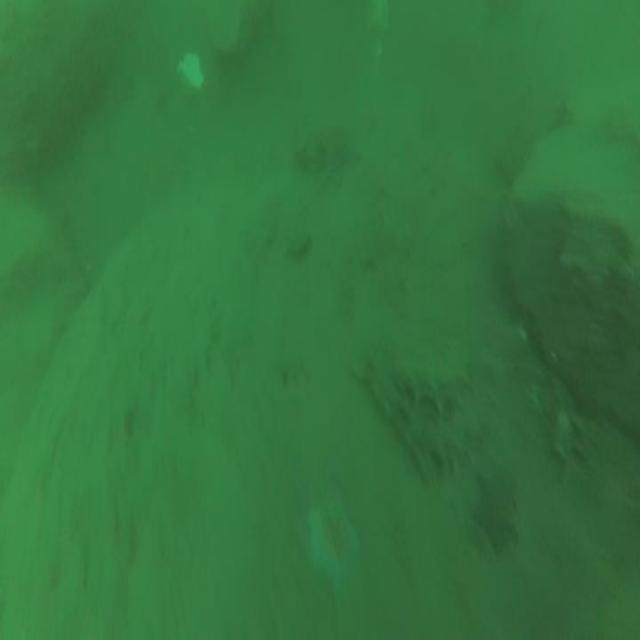holothurian: (356, 349, 491, 477), (372, 332, 480, 398)
starfish: (300, 483, 368, 598), (469, 460, 527, 564)
